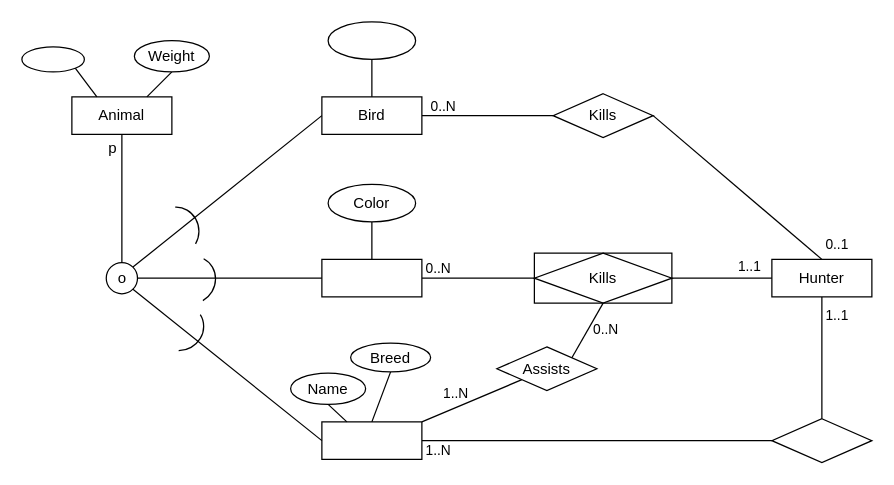
This 894x485 diagram has some shape labels left out. Here are the shapes that lost their labels. From the top down, the box of each, then its label:
(21, 46, 84, 72): ID
(327, 21, 416, 59): Wingspan
(321, 258, 422, 297): Fox
(321, 421, 422, 459): Dog
(771, 418, 872, 462): Owns
